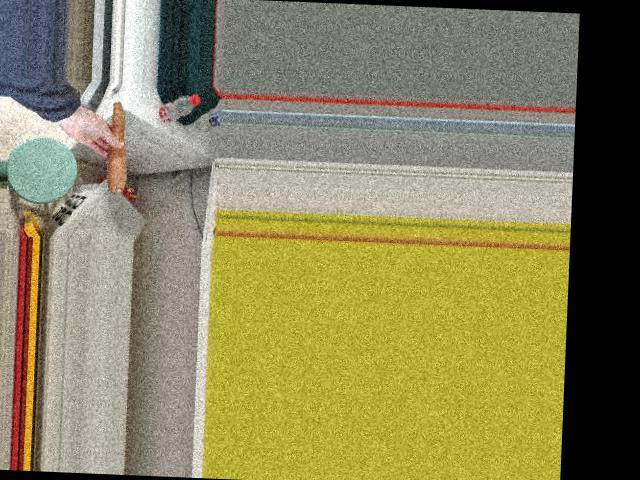sweet_potato: (98, 99, 131, 191)
